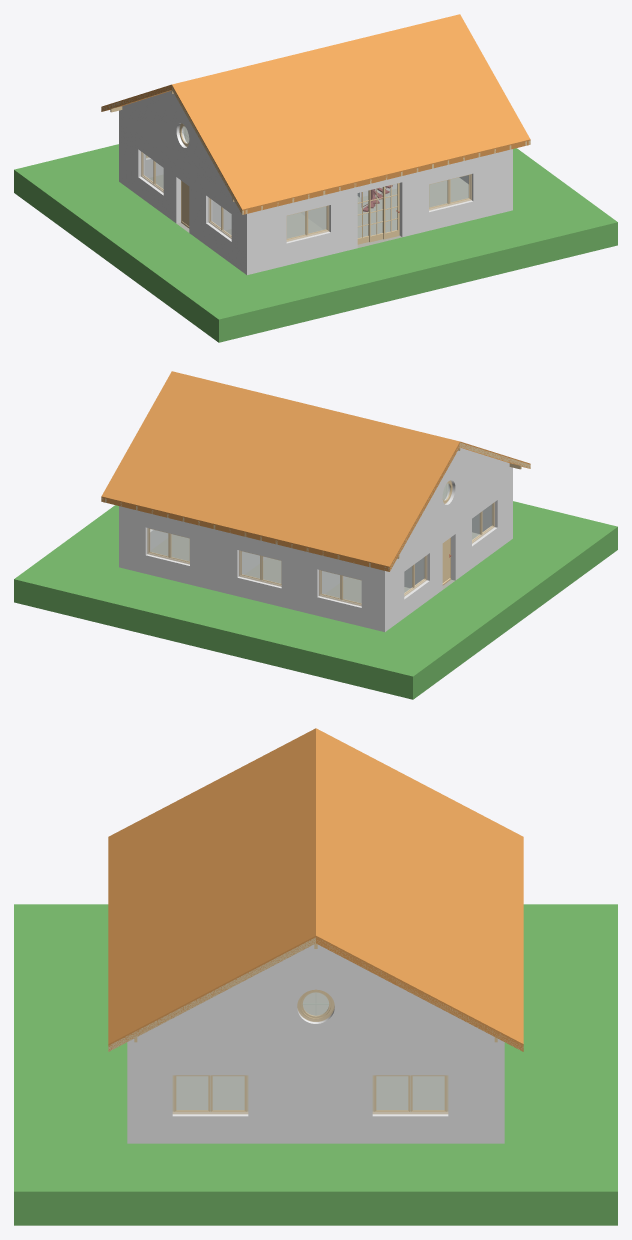
3 views of the same model, one above another, from view 1: azimuth 30°, elevation 25°; view 2: azimuth 150°, elevation 25°; view 3: azimuth 270°, elevation 25° (orthographic). The views are drawn at different scales.
Visible parts, largest first — view 1: 0KMpiAlnb52RgQuM1CwVfd, 2IxUUNUVPB6Ob$eicCfP2N, 16DNNqzfP2thtfaOflvsKA, 3rPX_Juz59peXXY6wDJl18, 0knNIAVBPBFvBy_m5QVHsU, 1pPHnf7cXCpPsNEnQf8_6B, 1M$gxUrX1Fiwe3P64ww7U5, 07Enbsqm9C7AQC9iyBwfSD; view 2: 07Enbsqm9C7AQC9iyBwfSD, 0KMpiAlnb52RgQuM1CwVfd, 1bzfVsJqn8De5PukCrqylz, 3rPX_Juz59peXXY6wDJl18, 0knNIAVBPBFvBy_m5QVHsU, 1pPHnf7cXCpPsNEnQf8_6B; view 3: 0KMpiAlnb52RgQuM1CwVfd, 07Enbsqm9C7AQC9iyBwfSD, 2IxUUNUVPB6Ob$eicCfP2N, 25fsbPyk15VvuXI$yNKenK, 3VCarUKgH1buLo22Ozxe6J, 1pPHnf7cXCpPsNEnQf8_6B, 2in0QvfYXEawl1f3MP1bq2, 2EQh_jhP1B_A_AMuSJc5E0, 13aSY79zb8fP4HApEJ0z_e.
Part boxes in pixels (x1=…): 0KMpiAlnb52RgQuM1CwVfd: x1=14, y1=144, x2=617, y2=342; 2IxUUNUVPB6Ob$eicCfP2N: x1=172, y1=14, x2=530, y2=214; 16DNNqzfP2thtfaOflvsKA: x1=247, y1=149, x2=512, y2=274; 3rPX_Juz59peXXY6wDJl18: x1=119, y1=119, x2=246, y2=274; 0knNIAVBPBFvBy_m5QVHsU: x1=119, y1=91, x2=236, y2=204; 1pPHnf7cXCpPsNEnQf8_6B: x1=149, y1=174, x2=468, y2=247; 1M$gxUrX1Fiwe3P64ww7U5: x1=357, y1=183, x2=399, y2=244; 07Enbsqm9C7AQC9iyBwfSD: x1=101, y1=84, x2=171, y2=111; 07Enbsqm9C7AQC9iyBwfSD: x1=101, y1=371, x2=459, y2=571; 0KMpiAlnb52RgQuM1CwVfd: x1=14, y1=501, x2=617, y2=699; 1bzfVsJqn8De5PukCrqylz: x1=119, y1=506, x2=384, y2=631; 3rPX_Juz59peXXY6wDJl18: x1=385, y1=476, x2=512, y2=631; 0knNIAVBPBFvBy_m5QVHsU: x1=395, y1=448, x2=512, y2=561; 1pPHnf7cXCpPsNEnQf8_6B: x1=150, y1=532, x2=479, y2=603; 0KMpiAlnb52RgQuM1CwVfd: x1=14, y1=904, x2=617, y2=1225; 07Enbsqm9C7AQC9iyBwfSD: x1=316, y1=728, x2=523, y2=1051; 2IxUUNUVPB6Ob$eicCfP2N: x1=108, y1=728, x2=315, y2=1051; 25fsbPyk15VvuXI$yNKenK: x1=127, y1=1051, x2=504, y2=1143; 3VCarUKgH1buLo22Ozxe6J: x1=127, y1=944, x2=504, y2=1051; 1pPHnf7cXCpPsNEnQf8_6B: x1=173, y1=1075, x2=447, y2=1111; 2in0QvfYXEawl1f3MP1bq2: x1=108, y1=937, x2=315, y2=1051; 2EQh_jhP1B_A_AMuSJc5E0: x1=172, y1=1075, x2=248, y2=1114; 13aSY79zb8fP4HApEJ0z_e: x1=372, y1=1075, x2=448, y2=1114.
Bounding box in the file's own units: 18 × 7.32 × 16.
